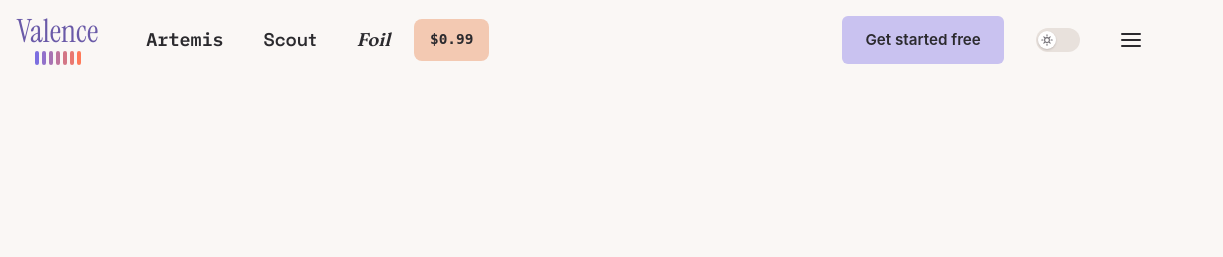
Test: Header hamburger menu › includes Docs as a plain link in the menu
What coordinates should you click on to do the following:
click the button with test id "menu-toggle"
I would click on:
 (1131, 40)
Its box is [1112, 22, 1149, 58].
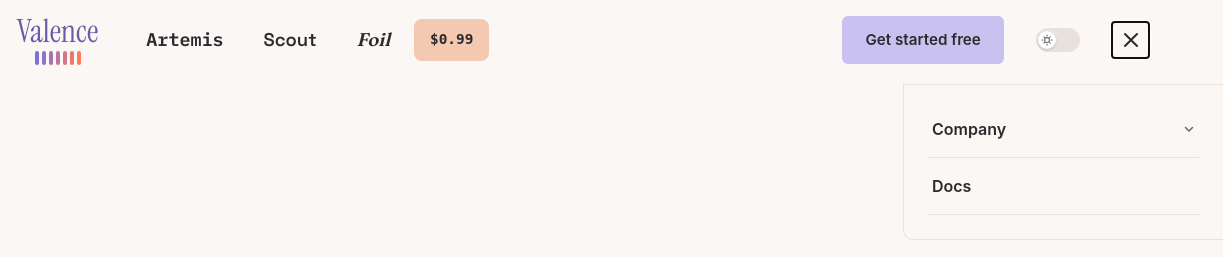
Check: the link "Docs" is shown, box [932, 176, 971, 196]
